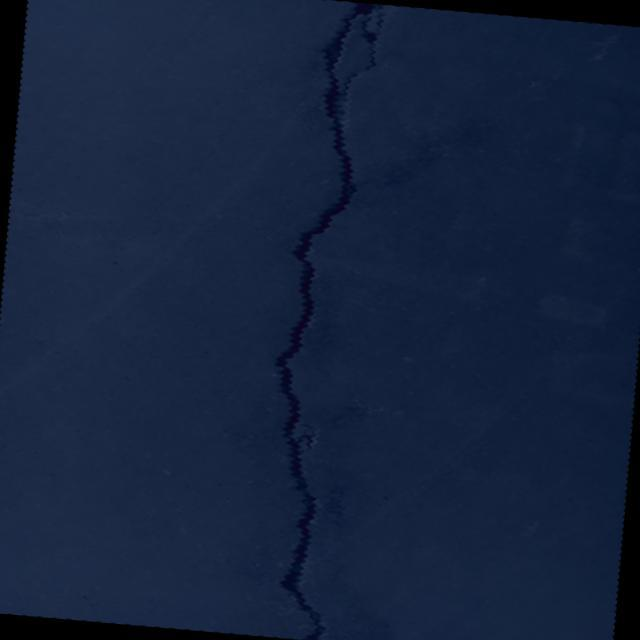crack: (250, 0, 393, 640)
